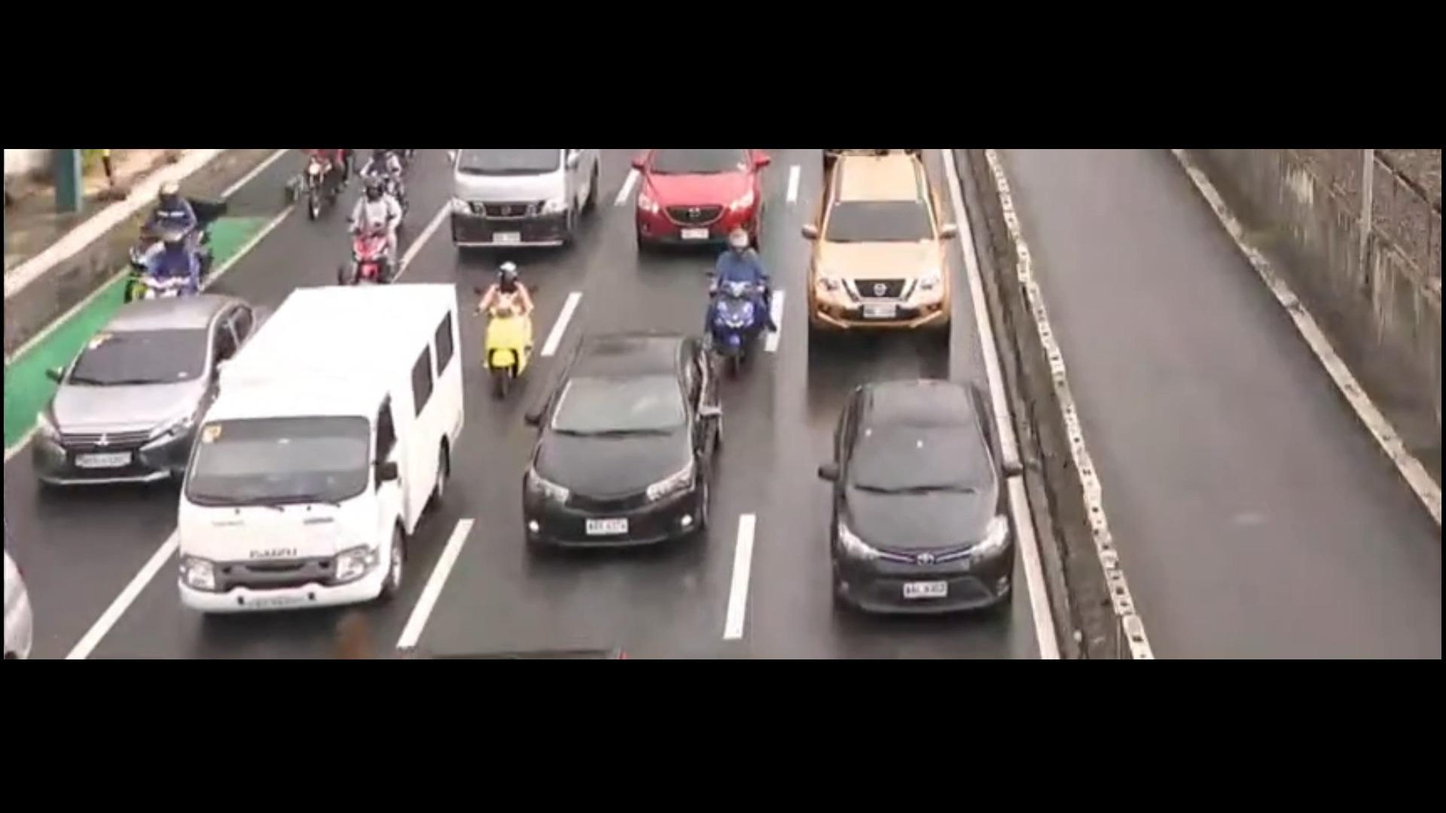Motorcycle: (119, 164, 247, 303), (686, 228, 791, 381), (472, 254, 552, 393), (337, 179, 415, 298), (296, 148, 355, 224)
Multicab: (149, 277, 469, 613)
SUV: (802, 149, 959, 355)
Sedan: (808, 360, 1036, 634), (510, 328, 731, 571), (28, 279, 270, 496)
